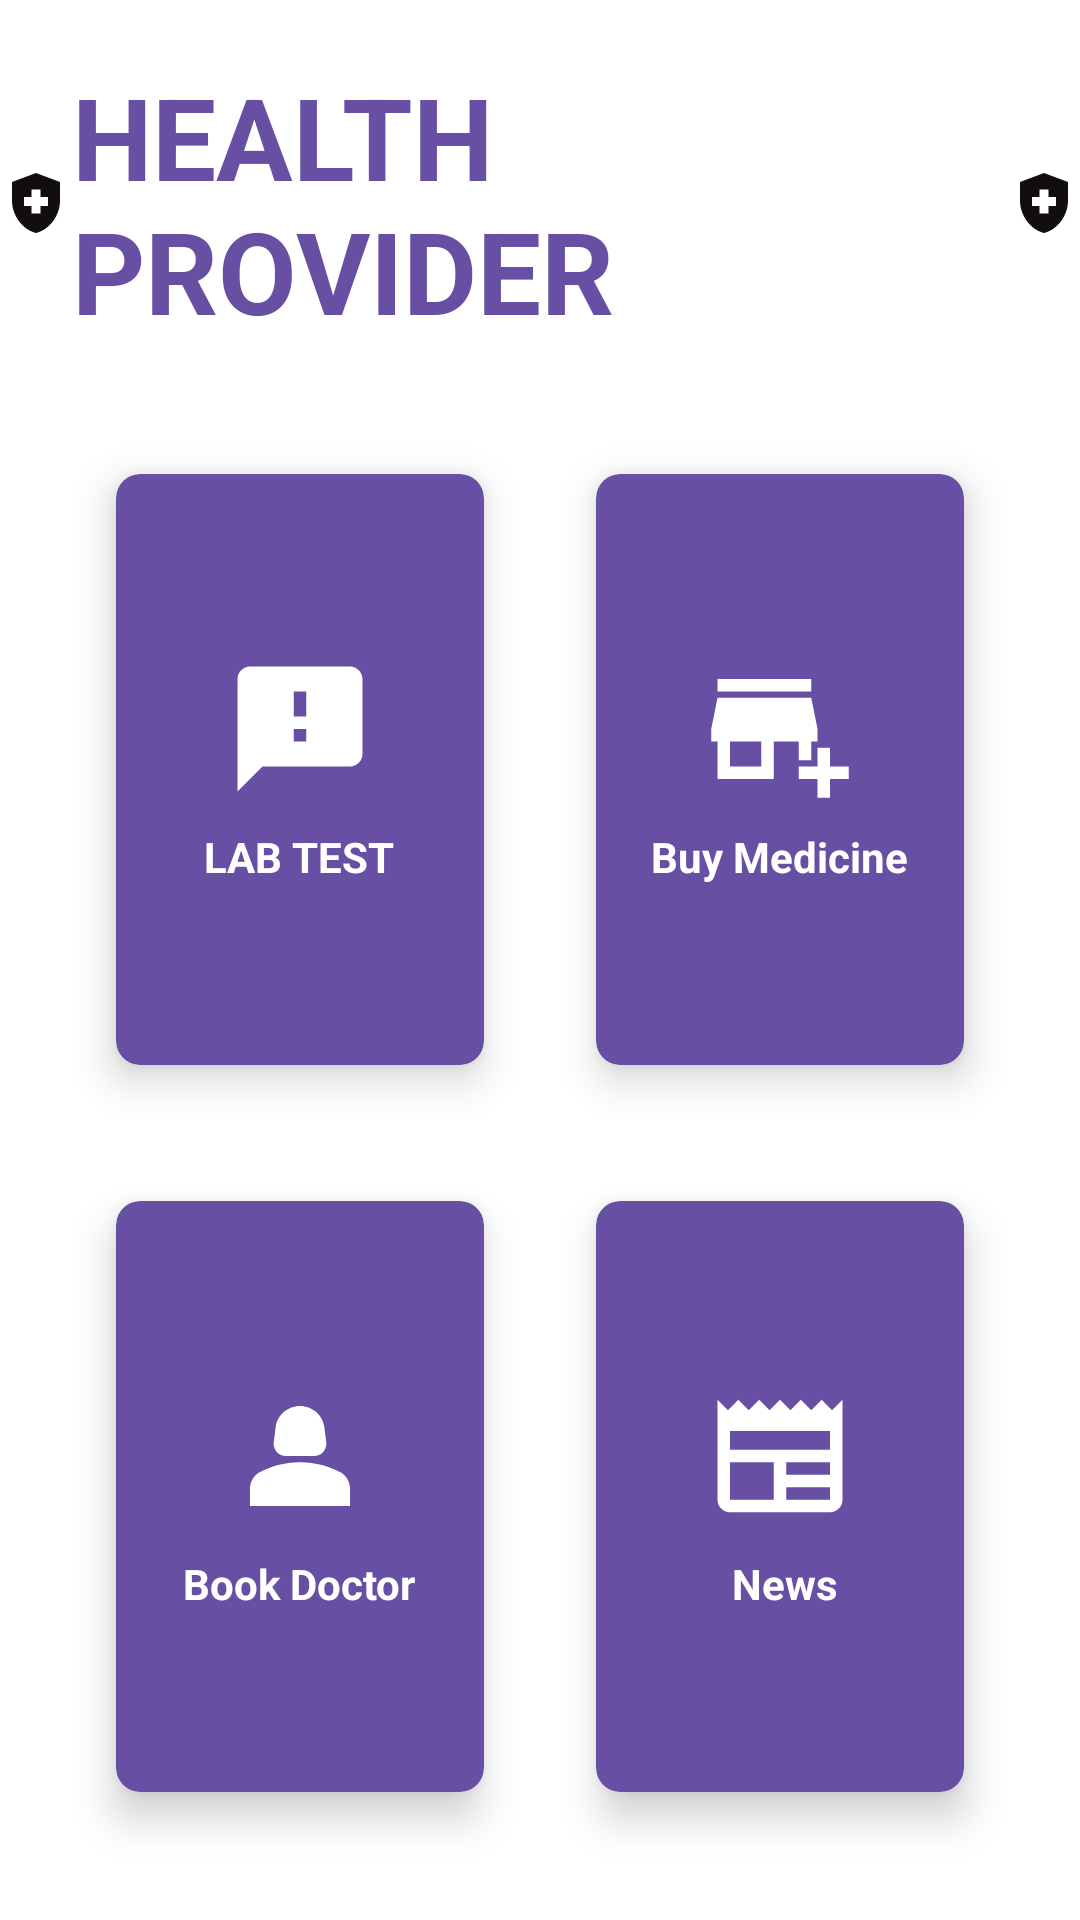

Icon bounding boxes for this 1080px x 1920px phone screenshot, format Rect(x1, y1, x2, y2):
add business: Rect(711, 679, 849, 798)
feedback: Rect(237, 666, 363, 791)
person: Rect(250, 1406, 350, 1506)
